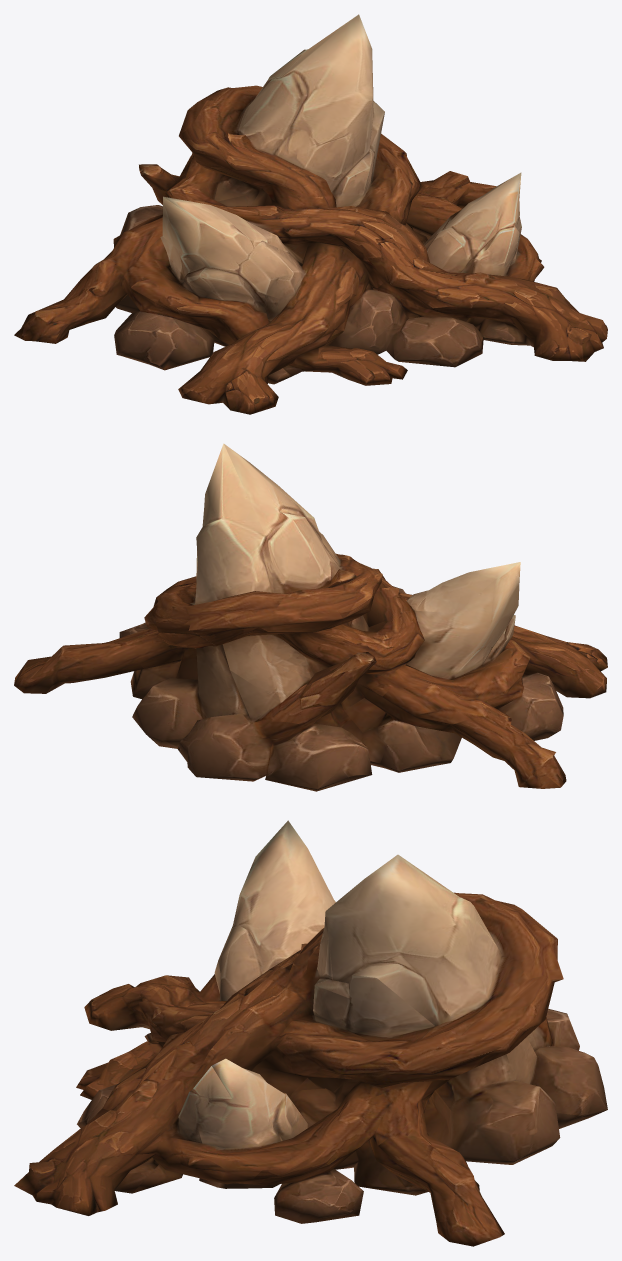
The picture shows the model from 3 angles, top to bottom: view 1: azimuth 30°, elevation 25°; view 2: azimuth 150°, elevation 25°; view 3: azimuth 270°, elevation 25°; orthographic projection. The views are drawn at different scales.
Parts seen in each view (by area): view 1: RootEruption; view 2: RootEruption; view 3: RootEruption.
Part boxes in pixels (left/top/right/bottom): RootEruption: left=14, top=14, right=607, bottom=414; RootEruption: left=14, top=443, right=607, bottom=791; RootEruption: left=14, top=820, right=607, bottom=1246.
Size of the model in its own units: 14 by 6.5 by 11.92.
Materials: 1 (1 with a texture image).
